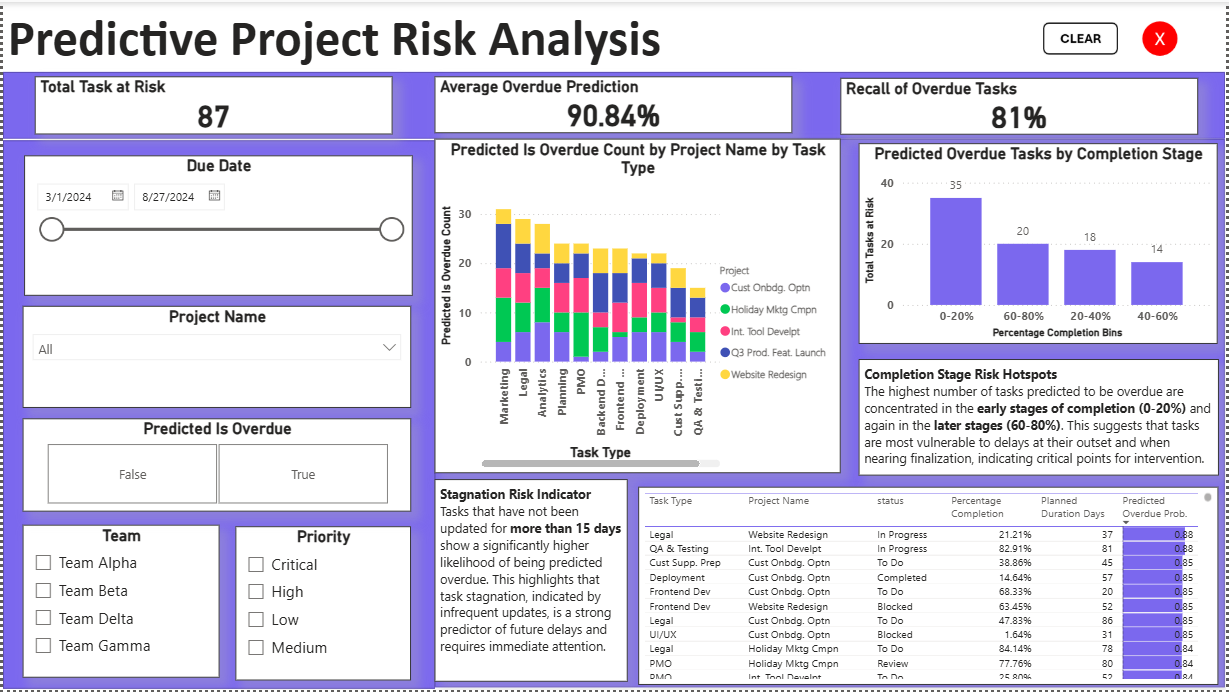

This screenshot's page, from the dashboard's own definition file:
{"tool":"powerbi","page":{"name":"Final Predictive Insights","canvas":[1280,720],"ordinal":1},"visuals":[{"type":"textbox","box":[0,0,1064.9,74.8],"z":0},{"type":"group","id":"g1","title":"Predicted KPIs","box":[0,73.2,1279.7,644.2],"z":0,"group":"g3"},{"type":"shape","box":[0,73.2,1279.7,70],"z":0,"group":"g1"},{"type":"shape","box":[0,144.8,452.3,574.3],"z":0,"group":"g2"},{"type":"group","id":"g2","title":"Slicers","box":[0,6.4,1236.2,712.7],"z":1000},{"type":"shape","box":[452.3,142.7,827.4,574.6],"z":1000,"group":"g1"},{"type":"columnChart","title":"Predicted Is Overdue Count by Project Name by Task Type","fields":{"Category":["project_tasks_for_power_bi.task_type_name"],"Series":["project_tasks_for_power_bi.project_name"],"Y":["CountNonNull(project_tasks_for_power_bi.predicted_is_overdue)"]},"box":[452,144,425,350.2],"z":1000,"group":"g3"},{"type":"slicer","title":"Due Date","fields":{"Values":["project_tasks_for_power_bi.due_date"]},"box":[22.8,160.7,406.8,147],"z":1000,"group":"g2"},{"type":"group","id":"g3","title":"Group 2","box":[0,73.2,1279.7,644.6],"z":2000},{"type":"card","title":"Total Task at Risk","fields":{"Values":["measure table.Total Tasks at Risk"]},"box":[33.4,77.9,374.1,60.7],"z":2000,"group":"g1"},{"type":"clusteredColumnChart","title":"Predicted Overdue Tasks by Completion Stage","fields":{"Y":["measure table.Total Tasks at Risk"],"Category":["project_tasks_for_power_bi.Completion Stage Range"]},"box":[896.1,148.8,375.6,210.1],"z":2000,"group":"g3"},{"type":"slicer","title":"Project Name","fields":{"Values":["project_tasks_for_power_bi.project_name"]},"box":[19.9,318.9,406.8,106.3],"z":2000,"group":"g2"},{"type":"card","title":"Average Overdue Prediction","fields":{"Values":["measure table.Accuracy of Overdue Prediction"]},"box":[452,78.3,374.1,58.9],"z":3000,"group":"g1"},{"type":"textbox","box":[452,500.5,202.1,211.7],"z":3000,"group":"g3"},{"type":"slicer","title":"Team","fields":{"Values":["project_tasks_for_power_bi.assignee_team"]},"box":[20.9,547.5,206,160],"z":3000,"group":"g2"},{"type":"card","title":"Recall of Overdue Tasks","fields":{"Values":["measure table.Recall of Overdue Tasks"]},"box":[877,79.9,374.1,58.9],"z":4000,"group":"g1"},{"type":"textbox","box":[895.4,373.9,377.1,121.8],"z":4000,"group":"g3"},{"type":"slicer","title":"Priority","fields":{"Values":["project_tasks_for_power_bi.priority"]},"box":[243.1,549.1,183.5,161],"z":4000,"group":"g2"},{"type":"slicer","title":"Predicted Is Overdue","fields":{"Values":["project_tasks_for_power_bi.predicted_is_overdue"]},"box":[19.9,436.5,406.8,97.2],"z":5000,"group":"g2"},{"type":"tableEx","fields":{"Values":["project_tasks_for_power_bi.task_type_name","project_tasks_for_power_bi.project_name","project_tasks_for_power_bi.status","measure table.Percentage Completion Display","project_tasks_for_power_bi.planned_duration_days","project_tasks_for_power_bi.predicted_overdue_probability"]},"box":[665.3,507.3,607.3,206.9],"z":5000,"group":"g3"},{"type":"image","box":[1186.3,14.4,49.9,49.9],"z":5500,"group":"g2"},{"type":"image","box":[1083.3,6.4,88.5,62.8],"z":6000,"group":"g2"}]}

Visuals, with their boxes in screenshot pixels (x1, y1, x2, y2), scaled from the page's 1280x720 canvas onto the 1229x692 screenshot:
textbox: [0,0,1022,72]
"Predicted KPIs" group: [0,70,1228,690]
shape: [0,70,1228,138]
shape: [0,139,434,691]
"Slicers" group: [0,6,1187,691]
shape: [434,137,1228,689]
"Predicted Is Overdue Count by Project Name by Task Type" columnChart: [434,138,842,475]
"Due Date" slicer: [22,154,412,296]
"Group 2" group: [0,70,1228,690]
"Total Task at Risk" card: [32,75,391,133]
"Predicted Overdue Tasks by Completion Stage" clusteredColumnChart: [860,143,1221,345]
"Project Name" slicer: [19,306,410,409]
"Average Overdue Prediction" card: [434,75,793,132]
textbox: [434,481,628,685]
"Team" slicer: [20,526,218,680]
"Recall of Overdue Tasks" card: [842,77,1201,133]
textbox: [860,359,1222,476]
"Priority" slicer: [233,528,410,682]
"Predicted Is Overdue" slicer: [19,420,410,513]
tableEx - project_tasks_for_power_bi.task_type_name x project_tasks_for_power_bi.project_name: [639,488,1222,686]
image: [1139,14,1187,62]
image: [1040,6,1125,67]
